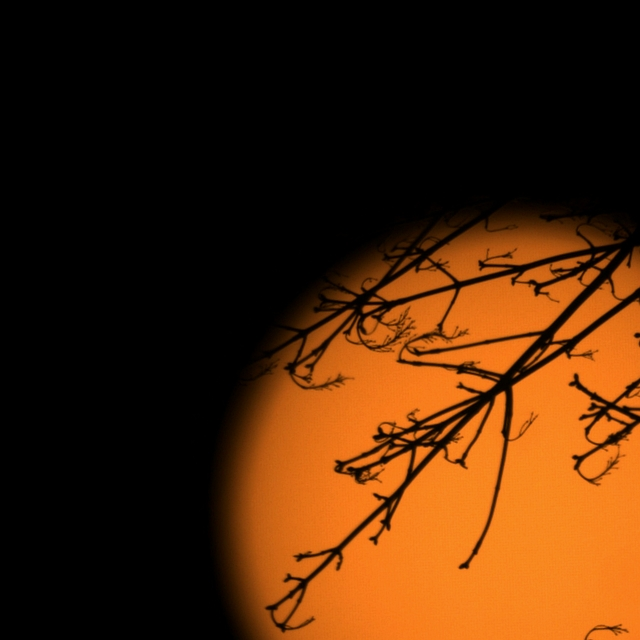sunspot: (582, 622, 631, 640), (514, 412, 539, 439), (611, 623, 630, 637), (458, 559, 473, 571), (633, 331, 640, 340)
